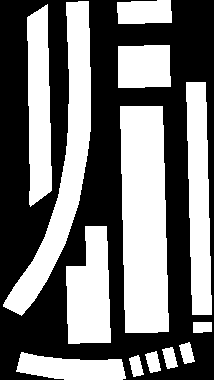parkingspot: (3, 1, 90, 315), (140, 106, 168, 332), (120, 106, 147, 332), (186, 82, 211, 314), (27, 4, 51, 206), (16, 352, 125, 380), (85, 226, 110, 342), (66, 266, 90, 343), (117, 0, 171, 23), (118, 65, 170, 87), (118, 45, 169, 67), (179, 342, 194, 363), (162, 347, 177, 368), (145, 351, 160, 372), (129, 355, 143, 376), (193, 322, 211, 332)
